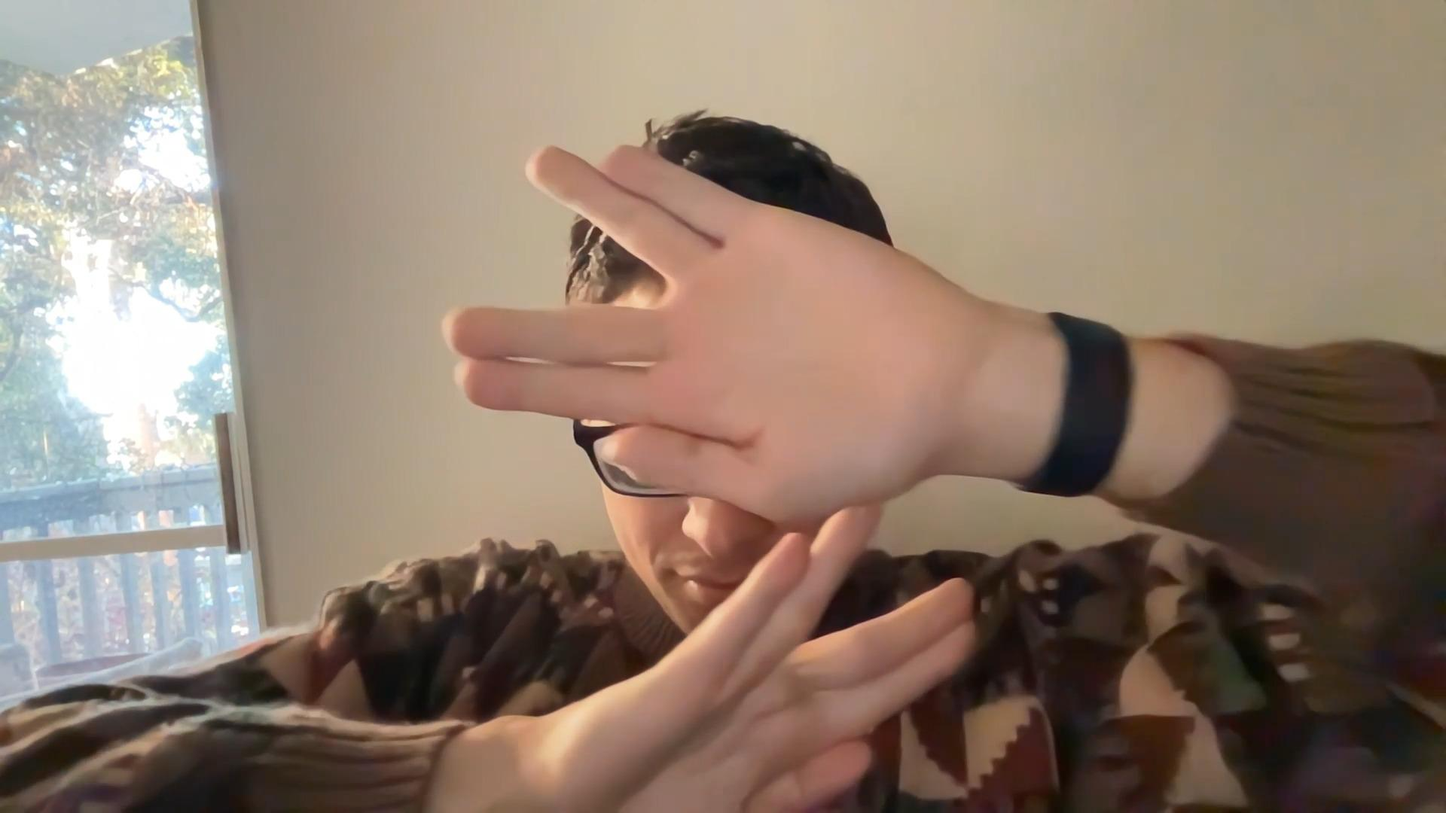face: (584, 300, 877, 639)
